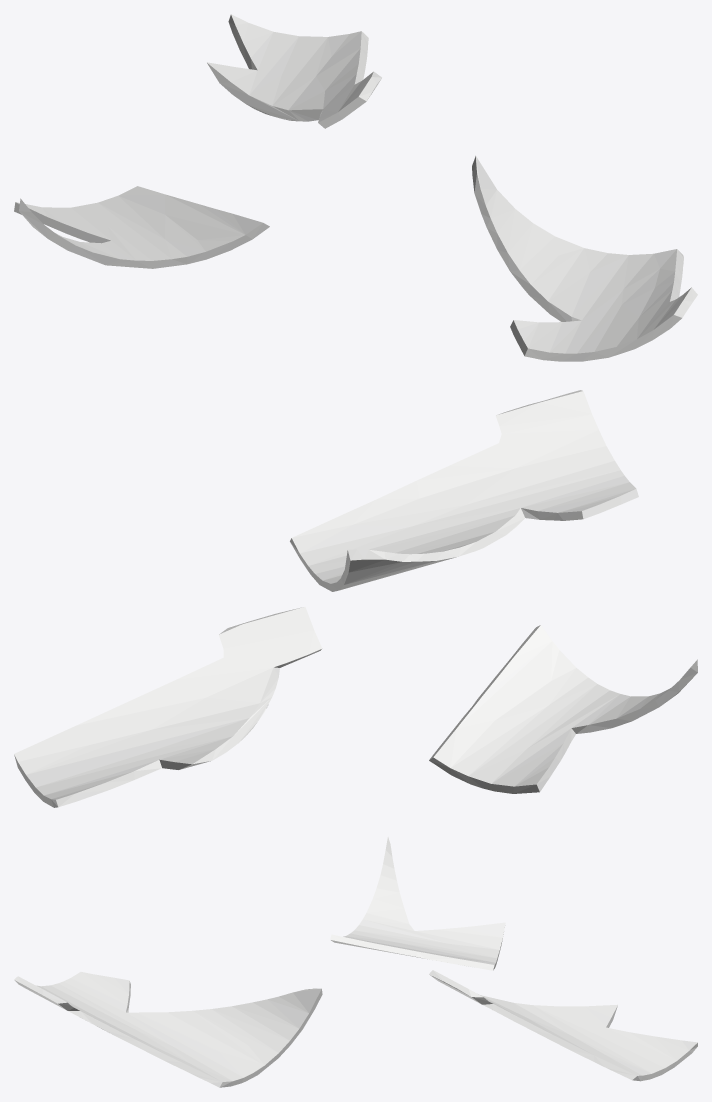
Rendered from scherbenKlein.glb.
3 renders of one model, top to bottom at view 1: azimuth 30°, elevation 25°; view 2: azimuth 150°, elevation 25°; view 3: azimuth 270°, elevation 25°, orthographic. The views are drawn at different scales.
Parts seen in each view (by area): view 1: 300586_23_06_15_12_32_27_1, 300586_23_06_15_12_32_27_3, 300586_23_06_15_12_32_27_2; view 2: 300586_23_06_15_12_32_27_1, 300586_23_06_15_12_32_27_2, 300586_23_06_15_12_32_27_3; view 3: 300586_23_06_15_12_32_27_1, 300586_23_06_15_12_32_27_2, 300586_23_06_15_12_32_27_3.
Boxes of the visible parts, <box> form: 300586_23_06_15_12_32_27_1: <box>472,156,697,361</box>; 300586_23_06_15_12_32_27_3: <box>14,186,269,268</box>; 300586_23_06_15_12_32_27_2: <box>207,14,381,128</box>; 300586_23_06_15_12_32_27_1: <box>290,390,638,591</box>; 300586_23_06_15_12_32_27_2: <box>14,607,322,807</box>; 300586_23_06_15_12_32_27_3: <box>429,625,697,793</box>; 300586_23_06_15_12_32_27_1: <box>14,972,322,1087</box>; 300586_23_06_15_12_32_27_2: <box>429,970,697,1081</box>; 300586_23_06_15_12_32_27_3: <box>330,837,505,970</box>.
Size of the model in its own units: 7.18 by 1.41 by 11.37.
Materials: 3 (3 with a texture image).
